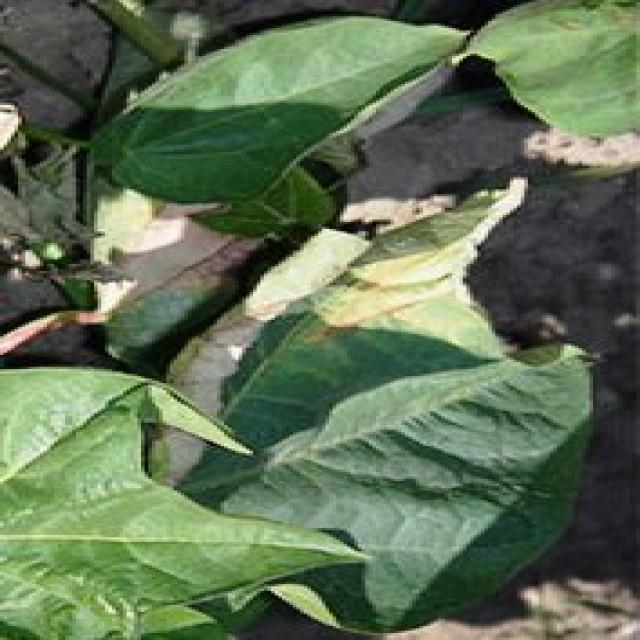Fusarium Wilt: (18, 18, 562, 640)
